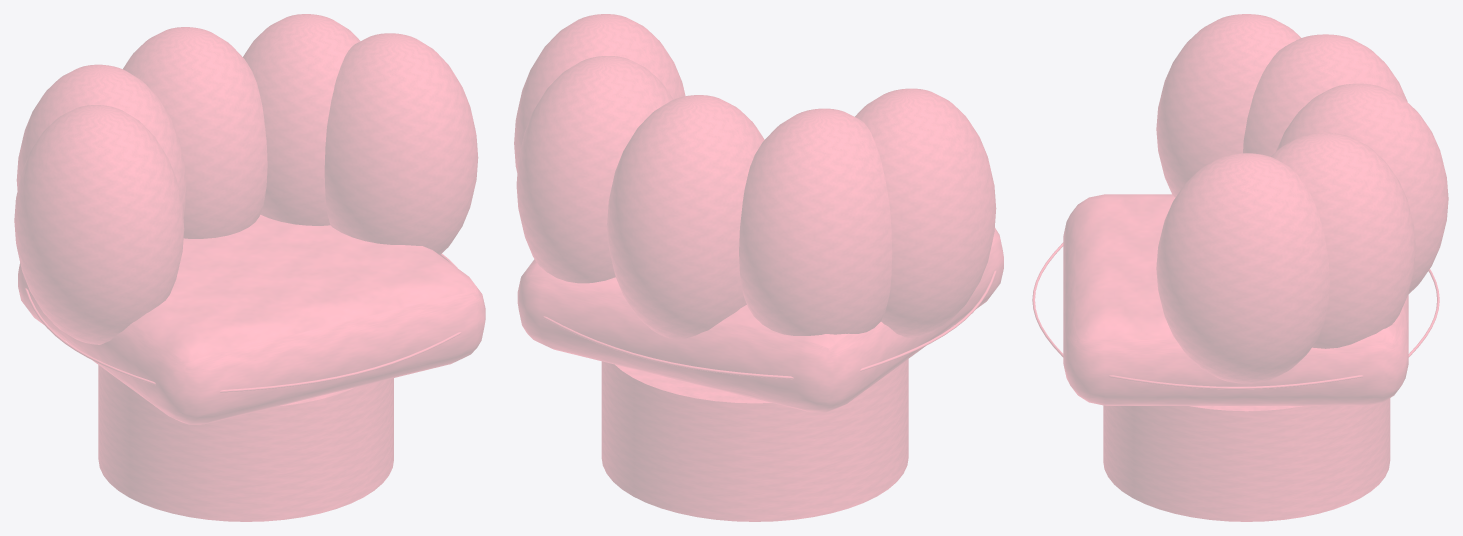
The model's file is ref07_07.glb.
The picture shows the model from 3 angles, left to right: view 1: azimuth 30°, elevation 25°; view 2: azimuth 150°, elevation 25°; view 3: azimuth 270°, elevation 25°; orthographic projection. The views are drawn at different scales.
Visible parts, largest first — view 1: ref07_07; view 2: ref07_07; view 3: ref07_07.
Boxes of the visible parts, x1=… form: ref07_07: x1=14, y1=14, x2=485, y2=521; ref07_07: x1=514, y1=14, x2=1003, y2=521; ref07_07: x1=1032, y1=14, x2=1448, y2=521.
Bounding box in the file's own units: 0.92 × 0.775 × 0.7833.
1 material, 1 textured.
